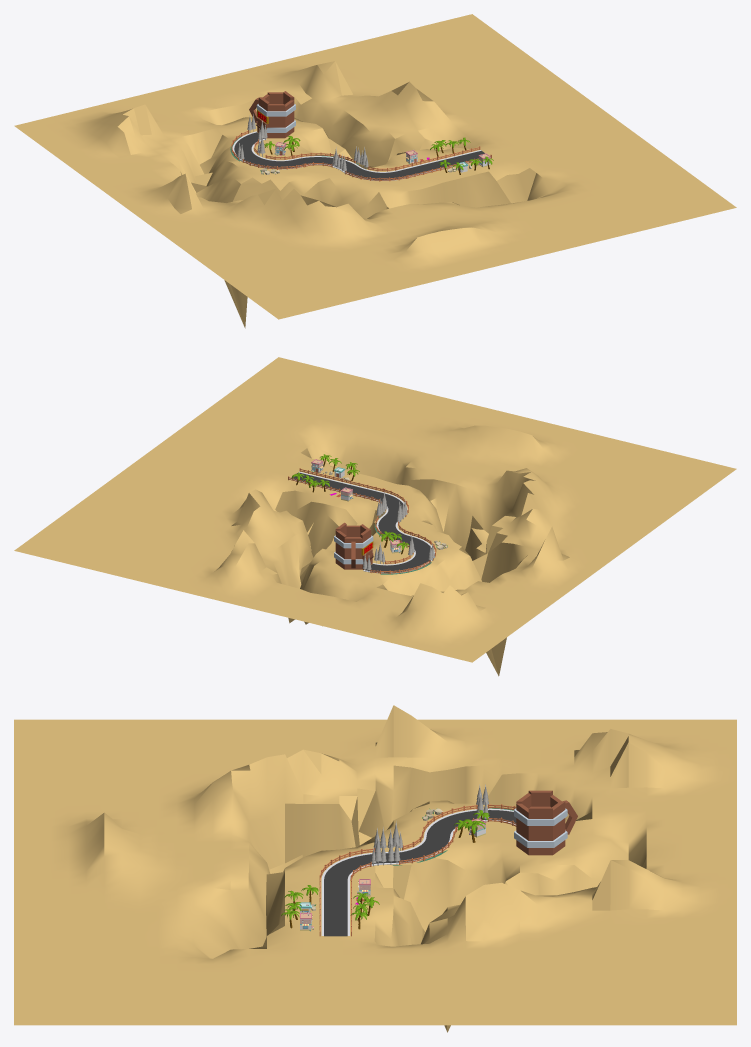
Rendered from drunk-scene-2.fbx.
3 views of the same model, one above another, from view 1: azimuth 30°, elevation 25°; view 2: azimuth 150°, elevation 25°; view 3: azimuth 270°, elevation 25° (orthographic). The views are drawn at different scales.
Visible parts, largest first — view 1: Plane_1, mug, roadStraight_1; view 2: Plane_1, mug, roadStraight_1, roadCornerLarge; view 3: Plane_1, mug, roadStraight_1, roadCornerLarge_3, roadCornerLarge_4, roadCornerLarge_2.
Part boxes in pixels (left/top/right/bottom): Plane_1: left=14, top=14, right=736, bottom=328; mug: left=249, top=91, right=295, bottom=138; roadStraight_1: left=397, top=150, right=484, bottom=177; Plane_1: left=14, top=357, right=736, bottom=676; mug: left=334, top=522, right=373, bottom=569; roadStraight_1: left=289, top=471, right=382, bottom=498; roadCornerLarge: left=363, top=559, right=429, bottom=574; Plane_1: left=14, top=705, right=736, bottom=1032; mug: left=514, top=790, right=577, bottom=855; roadStraight_1: left=321, top=879, right=349, bottom=936; roadCornerLarge_3: left=387, top=836, right=452, bottom=865; roadCornerLarge_4: left=321, top=852, right=386, bottom=879; roadCornerLarge_2: left=424, top=808, right=489, bottom=836.
Bounding box in the file's own units: 13555 × 4751 × 13555.
19 materials, 3 textured.
